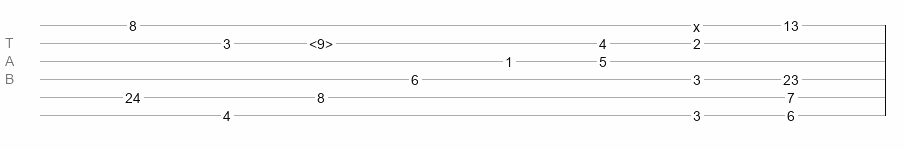1: (505, 54, 513, 64)
13: (783, 18, 799, 28)
2: (693, 36, 701, 46)
23: (783, 72, 799, 82)
24: (125, 90, 141, 100)
3: (223, 36, 231, 46), (693, 72, 701, 82), (693, 108, 701, 118)
4: (223, 108, 231, 118), (599, 36, 607, 46)
5: (599, 54, 607, 64)
6: (411, 72, 419, 82), (787, 108, 795, 118)
7: (787, 90, 795, 100)
8: (129, 18, 137, 28), (317, 90, 325, 100)
harmonic: (309, 36, 333, 46)
x: (693, 19, 700, 27)
